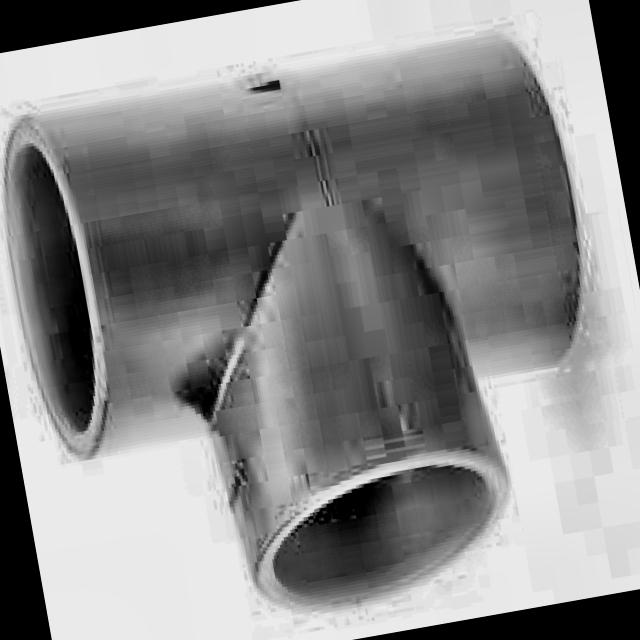EQUALTEE: (3, 27, 587, 611)
